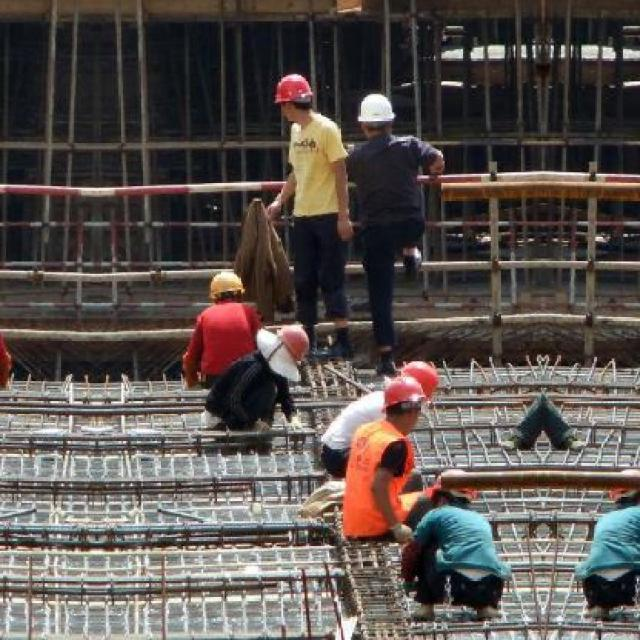Reflective-Jacket: (332, 414, 426, 541), (398, 502, 522, 596), (346, 138, 448, 250), (274, 115, 354, 228), (185, 303, 263, 388)
Safety-Helmet: (384, 357, 444, 412), (372, 374, 431, 418), (264, 68, 322, 112), (351, 88, 403, 130), (200, 264, 252, 304), (274, 322, 315, 369)
